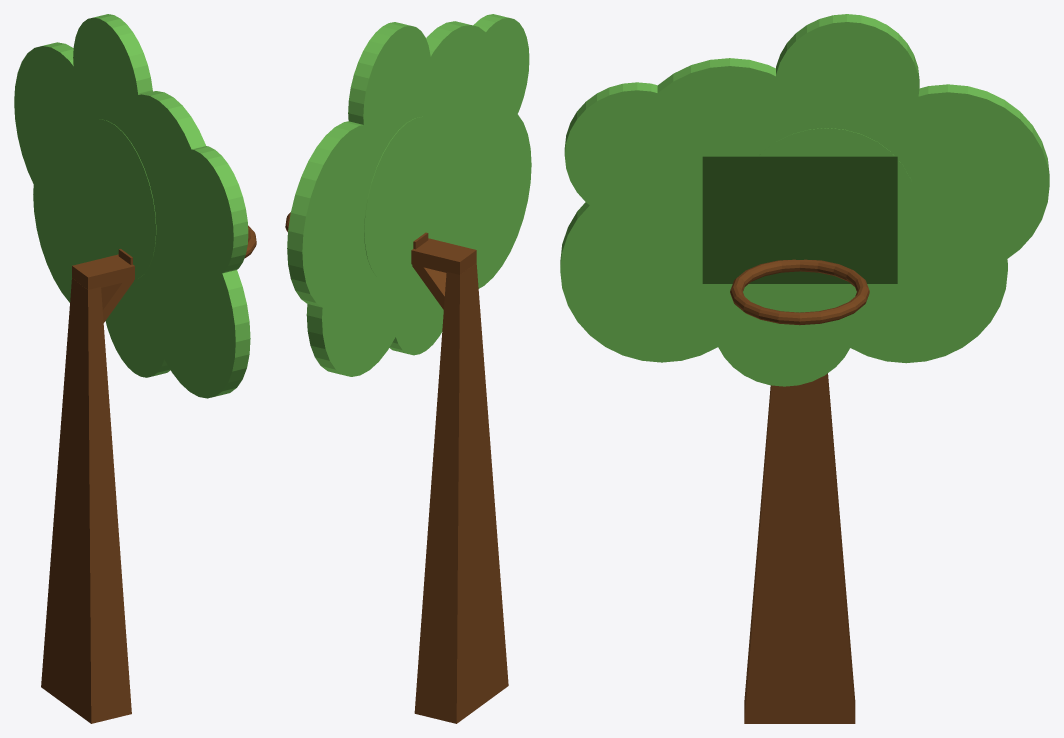
Rendered from tree hoop.fbx.
3 views of the same model, side by side, from view 1: azimuth 30°, elevation 25°; view 2: azimuth 150°, elevation 25°; view 3: azimuth 270°, elevation 25° (orthographic). The views are drawn at different scales.
Visible parts, largest first — view 1: Cube, Cube.001; view 2: Cube, Cube.001; view 3: Cube, Cube.001, Plane, Torus.001.
Boxes of the visible parts, <box> form: Cube: <box>14,14,250,398</box>; Cube.001: <box>41,254,134,723</box>; Cube: <box>287,14,531,376</box>; Cube.001: <box>411,238,508,723</box>; Cube: <box>560,14,1049,386</box>; Cube.001: <box>744,373,855,723</box>; Plane: <box>702,156,897,283</box>; Torus.001: <box>730,259,869,325</box>.
Size of the model in its own units: 229 by 782 by 482.
